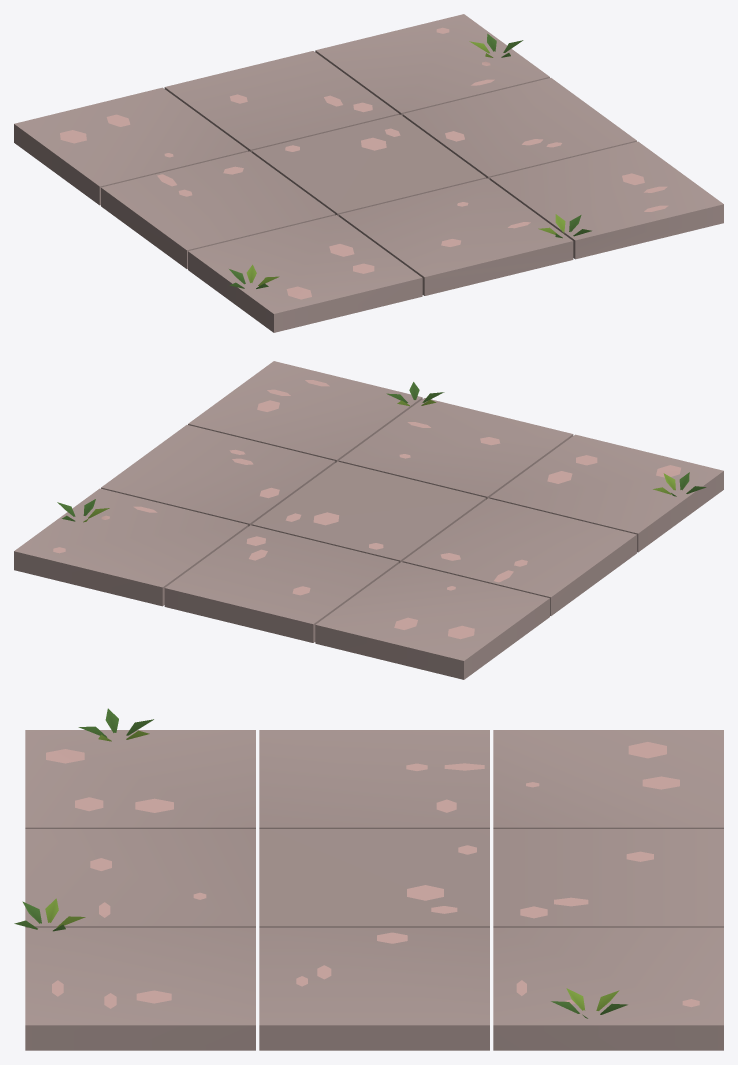
The model's file is house.driveway.empty.lod1.glb.
The picture shows the model from 3 angles, top to bottom: view 1: azimuth 30°, elevation 25°; view 2: azimuth 150°, elevation 25°; view 3: azimuth 270°, elevation 25°; orthographic projection. The views are drawn at different scales.
Size of the model in its own units: 3.13 by 0.18 by 3.03.
